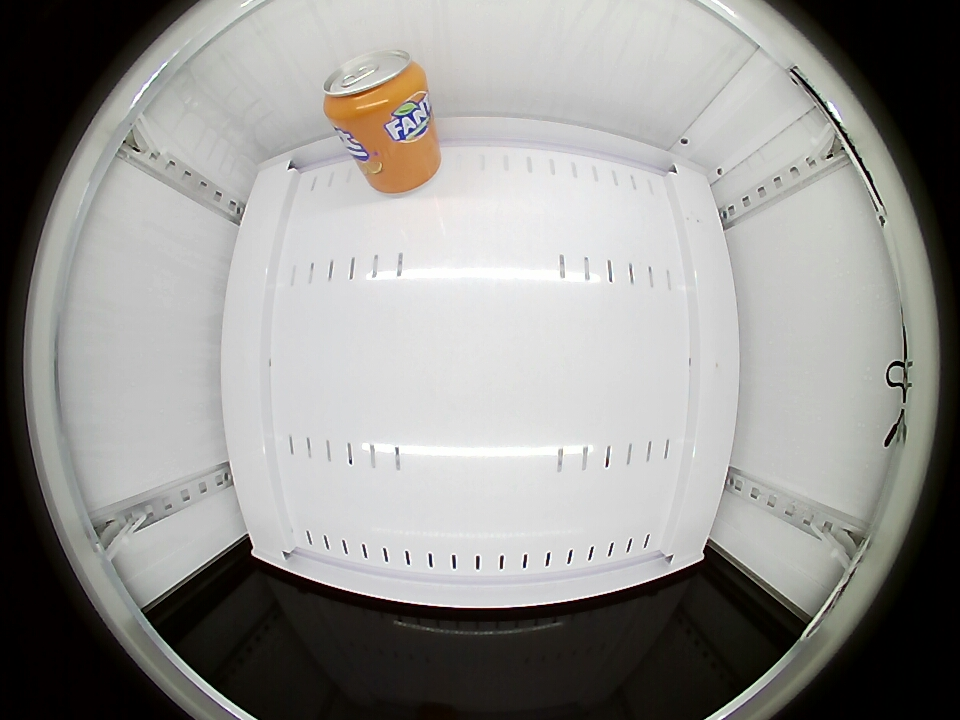fenda: (322, 49, 427, 125)
